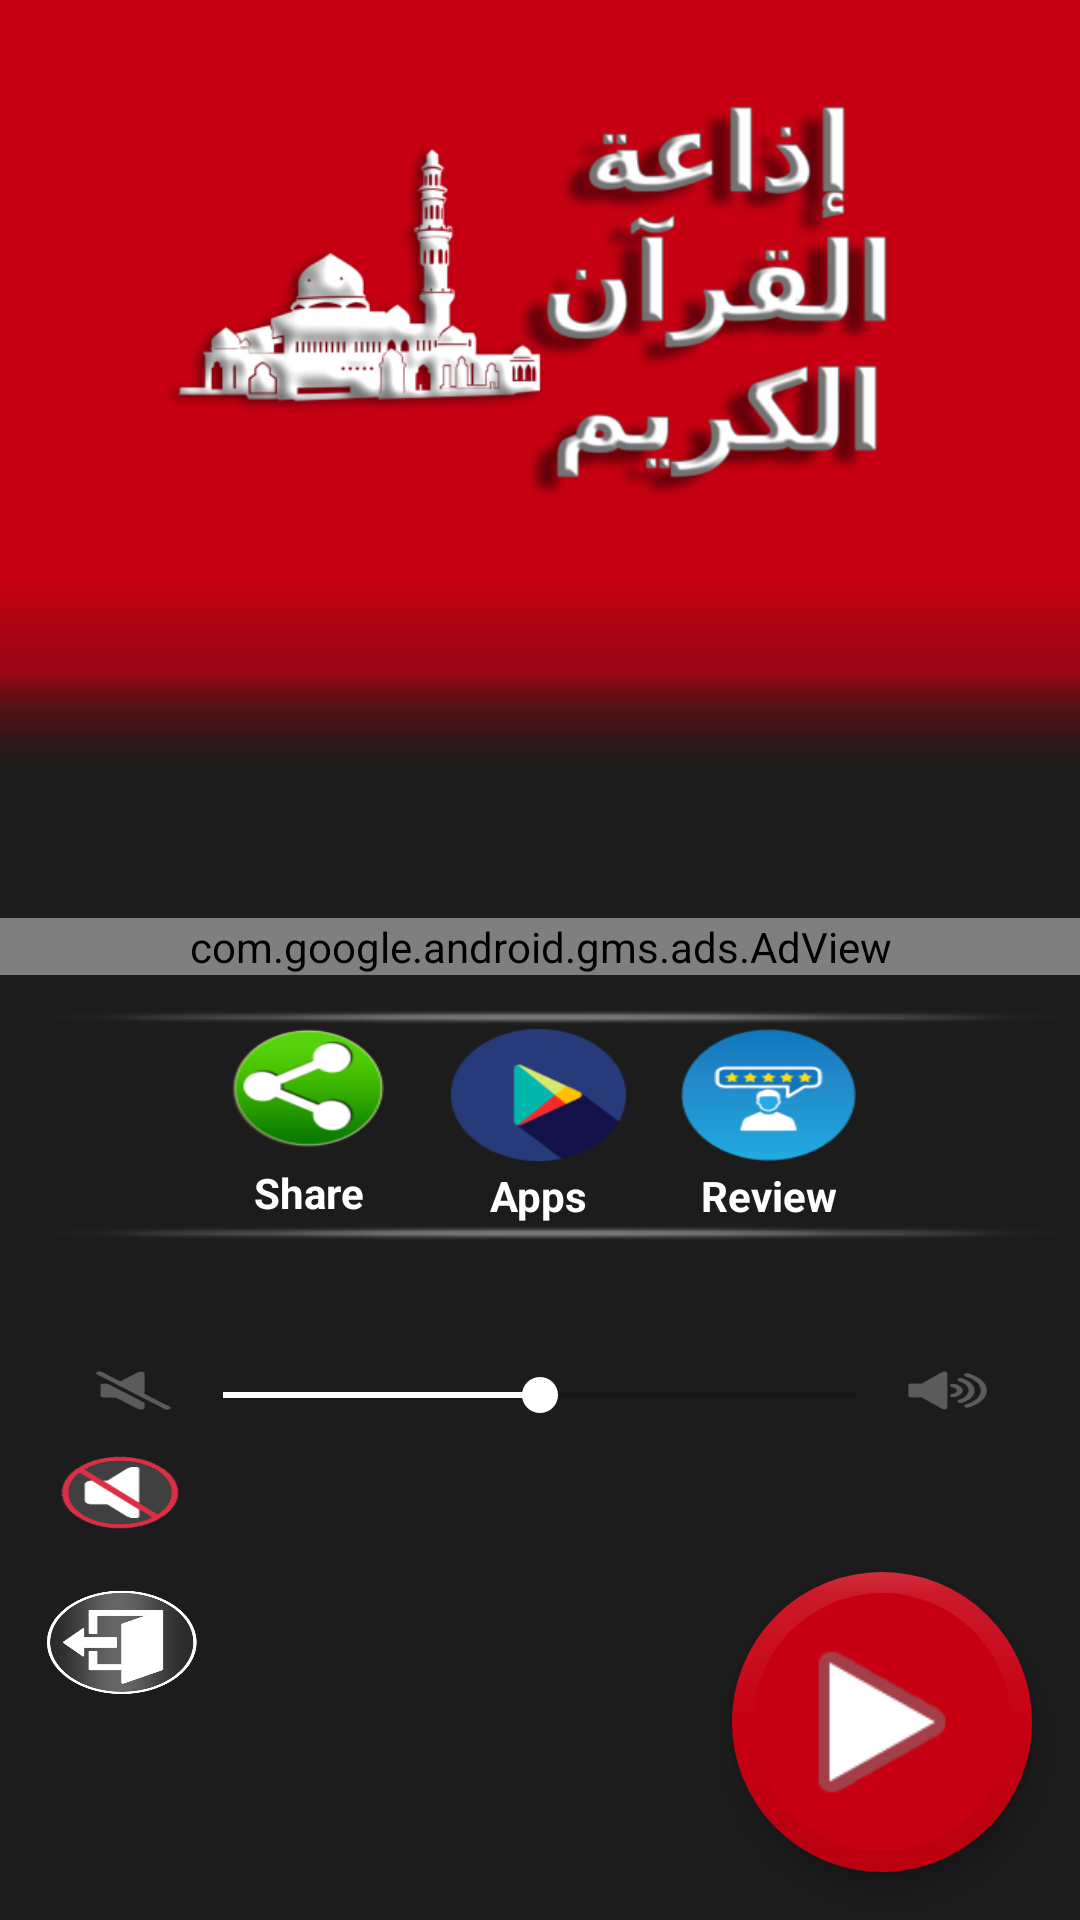

Locate icon controls on the screen. Image size 1080w x 1920h, boxes as (x1, y1, x2, y2).
exit butn: (47, 1591, 197, 1694)
play: (732, 1572, 1032, 1872)
volum max: (908, 1371, 987, 1410)
volum mute: (96, 1371, 171, 1410)
